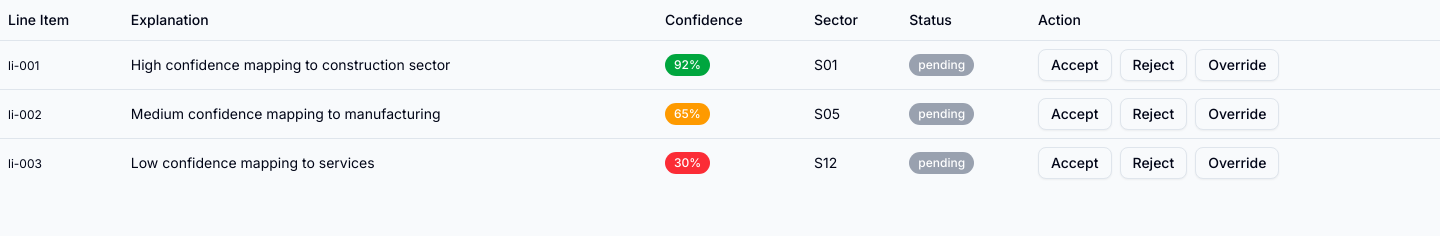
Scenario: DecisionTable › overridden row shows amber badge with overridden text
Click Override on first row
Step 1. Click the button "Override" in the row of "li-001" → (1237, 64), box [1195,48,1280,80]
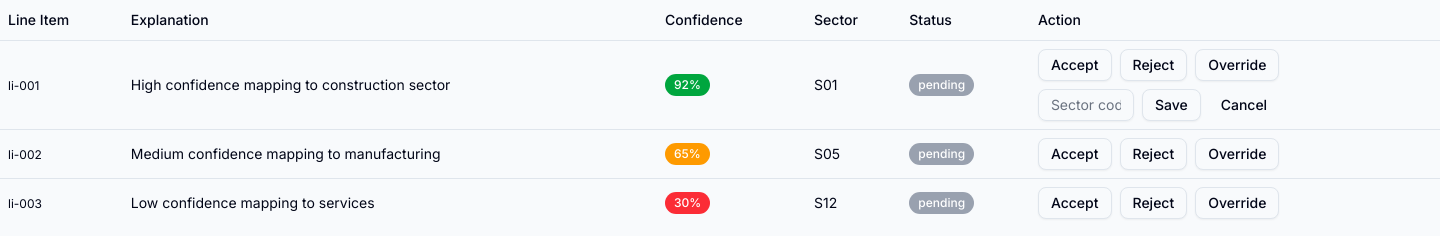
Enter sector code and confirm
Step 2. Type "S99" into the field named "override sector code" → (1086, 104), box [1038,88,1134,120]
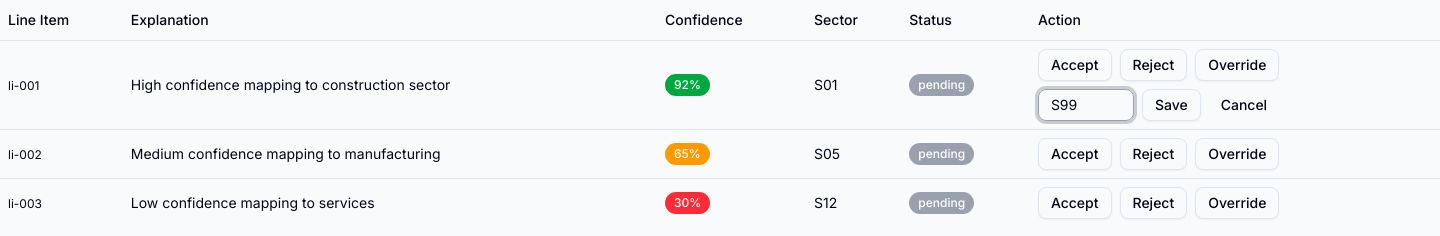
Step 3. Click the button "Save" → (1171, 104), box [1142,88,1201,120]
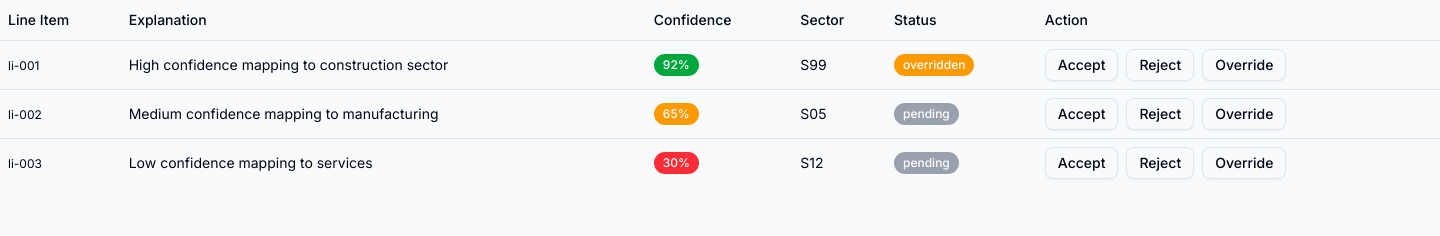
Expected: the text "overridden" is shown, [894,54,974,76]
